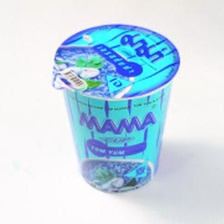paper_cup: (42, 18, 185, 199)
